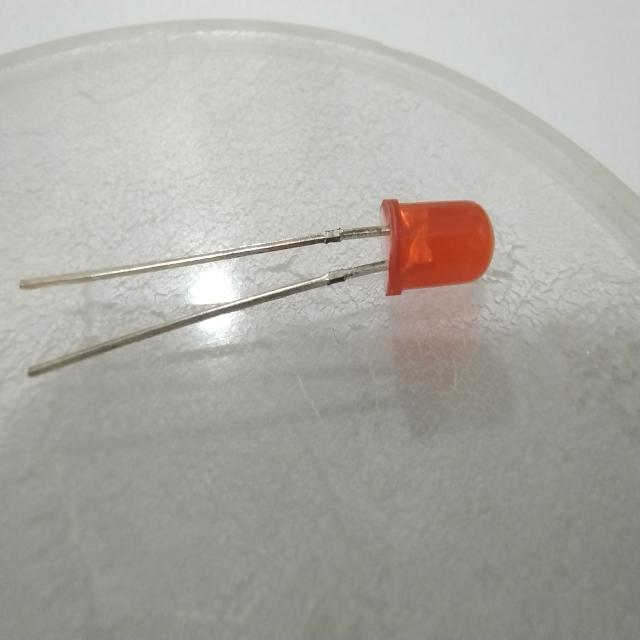red_led: (369, 186, 504, 304)
